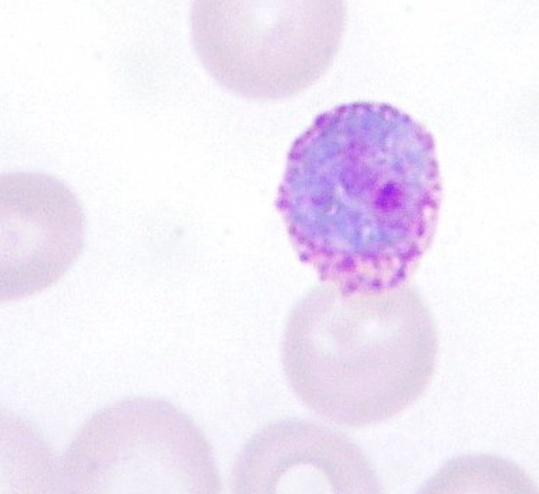Infected: (280, 100, 441, 296)
Uninfected: (281, 279, 432, 425)
